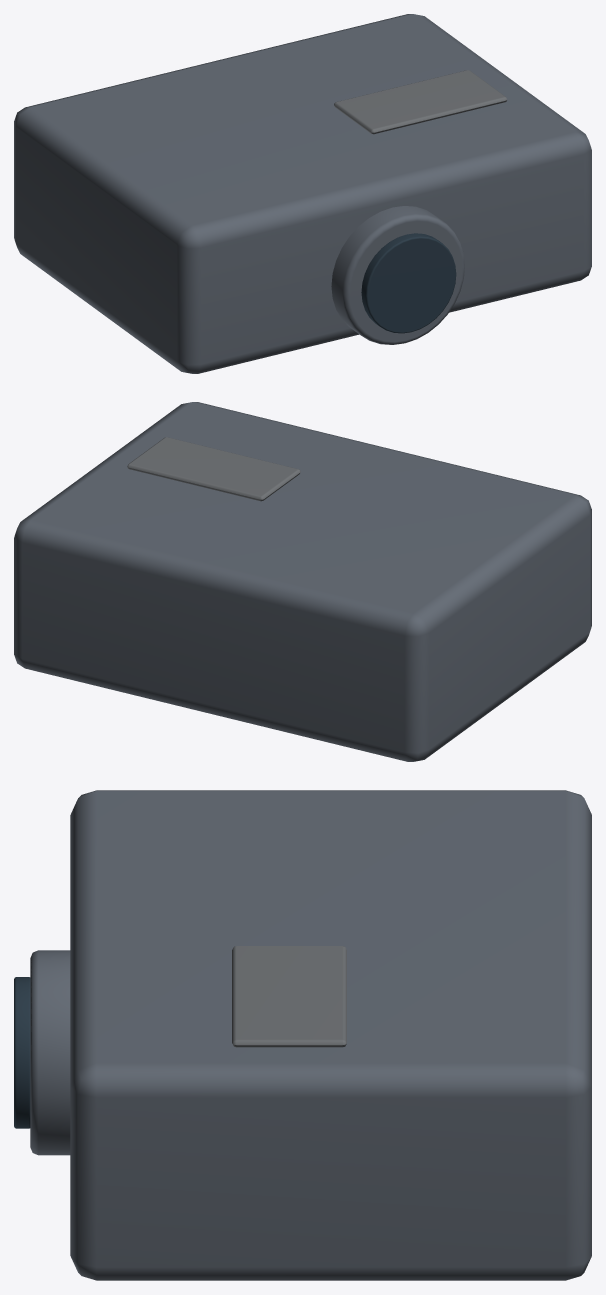
The model's file is projector.glb.
The picture shows the model from 3 angles, top to bottom: view 1: azimuth 30°, elevation 25°; view 2: azimuth 150°, elevation 25°; view 3: azimuth 270°, elevation 25°; orthographic projection. The views are drawn at different scales.
Visible parts, largest first — view 1: Projector chassis, Lens glass, Lens barrel, Top control panel; view 2: Projector chassis, Top control panel; view 3: Projector chassis, Top control panel, Lens barrel, Lens glass.
Part boxes in pixels (x1,y1,x2,y2): Projector chassis: (14, 14, 591, 373); Lens glass: (361, 233, 456, 333); Lens barrel: (331, 206, 464, 344); Top control panel: (334, 70, 507, 134); Projector chassis: (14, 402, 591, 761); Top control panel: (127, 437, 300, 501); Projector chassis: (70, 790, 591, 1280); Top control panel: (232, 946, 346, 1047); Lens barrel: (30, 950, 70, 1155); Lens glass: (14, 977, 30, 1128).
Size of the model in its own units: 0.32 by 0.115 by 0.266.
